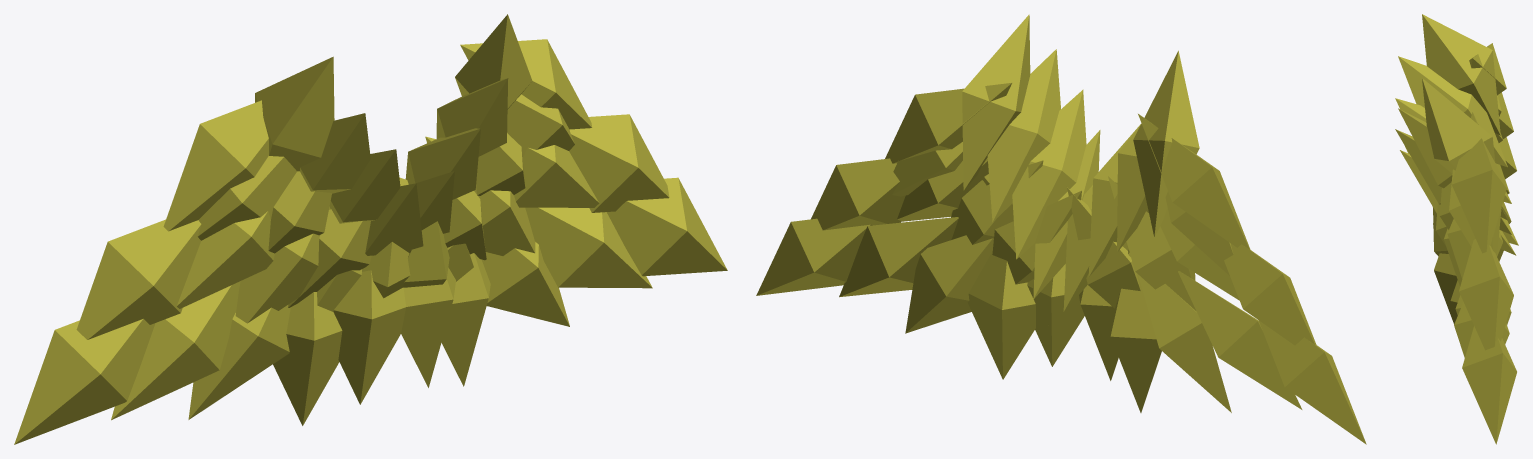
Rendered from Fbx_Boss_Char_Cry.fbx.
3 views of the same model, side by side, from view 1: azimuth 30°, elevation 25°; view 2: azimuth 150°, elevation 25°; view 3: azimuth 270°, elevation 25° (orthographic). The views are drawn at different scales.
Parts seen in each view (by area): view 1: pCube102 (×2), pCube101 (×2), pCube97 (×2), pCube100 (×2), pCube93 (×2), pCube96 (×2), pCube99 (×2), pCube110 (×2), pCube98 (×2), pCube92 (×2), pCube95 (×2), pCube91 (×2) (+6 smaller); view 2: pCube93 (×2), pCube97 (×2), pCube102 (×2), pCube96 (×2), pCube101 (×2), pCube100 (×2), pCube110 (×2), pCube91 (×2), pCube92 (×2), pCube95 (×2), pCube94 (×2), pCube98 (×2) (+3 smaller); view 3: pCube93 (×2), pCube100 (×2), pCube101 (×2), pCube102 (×2), pCube92 (×2), pCube91 (×2), pCube99, pCube106, pCube6 (×2), pCube98, pCube97, pCube104 (+4 smaller).
Part boxes in pixels (bbox=[...]): pCube102 (×2): bbox=[14, 177, 727, 444]; pCube101 (×2): bbox=[76, 114, 669, 339]; pCube97 (×2): bbox=[111, 207, 652, 420]; pCube100 (×2): bbox=[163, 39, 592, 231]; pCube93 (×2): bbox=[255, 14, 532, 171]; pCube96 (×2): bbox=[188, 242, 569, 419]; pCube99 (×2): bbox=[333, 267, 455, 404]; pCube110 (×2): bbox=[273, 253, 490, 425]; pCube98 (×2): bbox=[168, 145, 599, 314]; pCube92 (×2): bbox=[300, 78, 508, 193]; pCube95 (×2): bbox=[235, 136, 535, 323]; pCube91 (×2): bbox=[329, 128, 480, 223]; pCube93 (×2): bbox=[962, 14, 1199, 236]; pCube97 (×2): bbox=[839, 217, 1302, 409]; pCube102 (×2): bbox=[756, 218, 1366, 444]; pCube96 (×2): bbox=[905, 235, 1231, 412]; pCube101 (×2): bbox=[811, 158, 1316, 345]; pCube100 (×2): bbox=[885, 83, 1250, 250]; pCube110 (×2): bbox=[967, 250, 1161, 412]; pCube91 (×2): bbox=[1012, 89, 1141, 276]; pCube92 (×2): bbox=[987, 49, 1148, 252]; pCube95 (×2): bbox=[951, 160, 1195, 310]; pCube94 (×2): bbox=[992, 187, 1140, 308]; pCube98 (×2): bbox=[897, 158, 1239, 300]; pCube93 (×2): bbox=[1422, 14, 1500, 173]; pCube100 (×2): bbox=[1451, 43, 1506, 253]; pCube101 (×2): bbox=[1459, 92, 1513, 350]; pCube102 (×2): bbox=[1462, 137, 1516, 444]; pCube92 (×2): bbox=[1398, 56, 1507, 220]; pCube91 (×2): bbox=[1395, 98, 1511, 234]; pCube99: bbox=[1434, 253, 1457, 324]; pCube106: bbox=[1449, 169, 1501, 255]; pCube6 (×2): bbox=[1400, 146, 1518, 255]; pCube98: bbox=[1447, 219, 1502, 278]; pCube97: bbox=[1454, 302, 1509, 357]; pCube104: bbox=[1439, 182, 1453, 229].
Size of the model in its own units: 1824 by 974 by 366.
